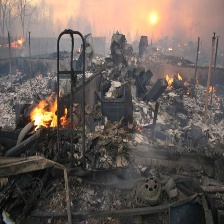fire: (29, 98, 73, 131), (5, 36, 25, 53), (161, 72, 184, 86), (204, 84, 216, 95)
smoke: (31, 3, 224, 60)
